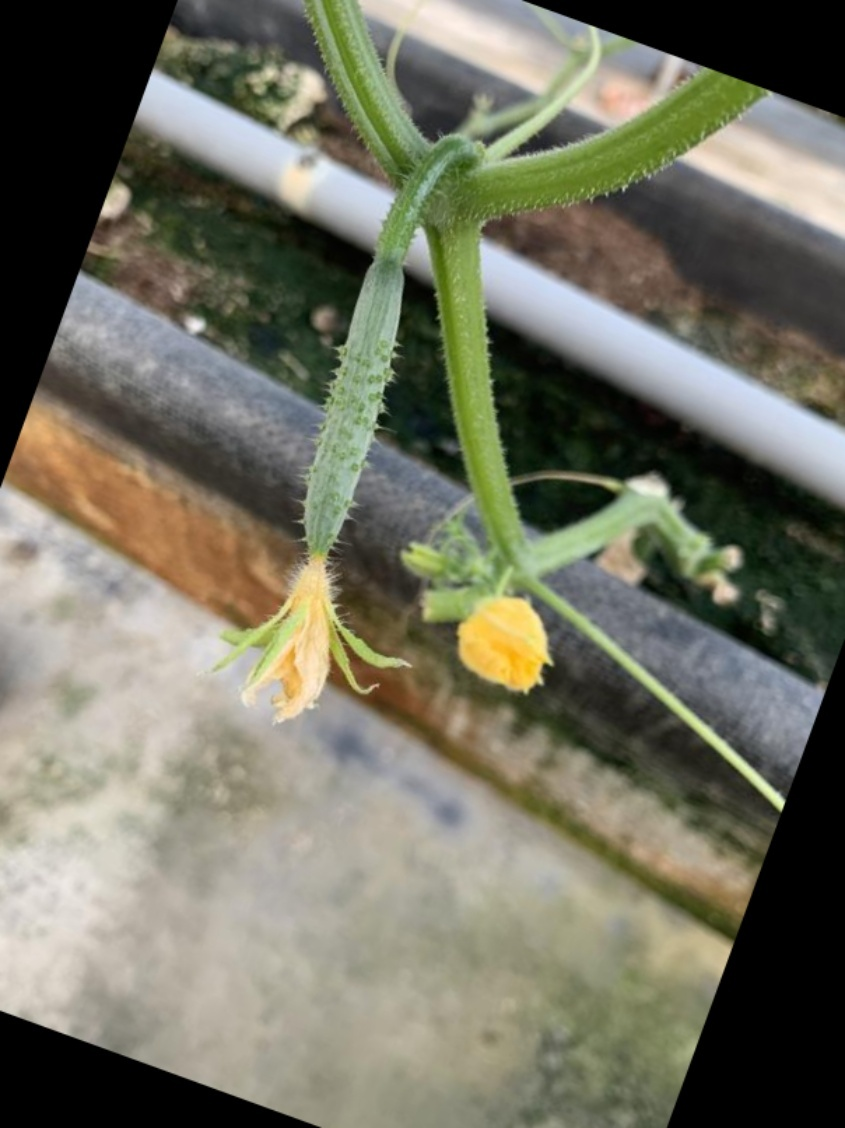bear: (186, 245, 429, 734)
